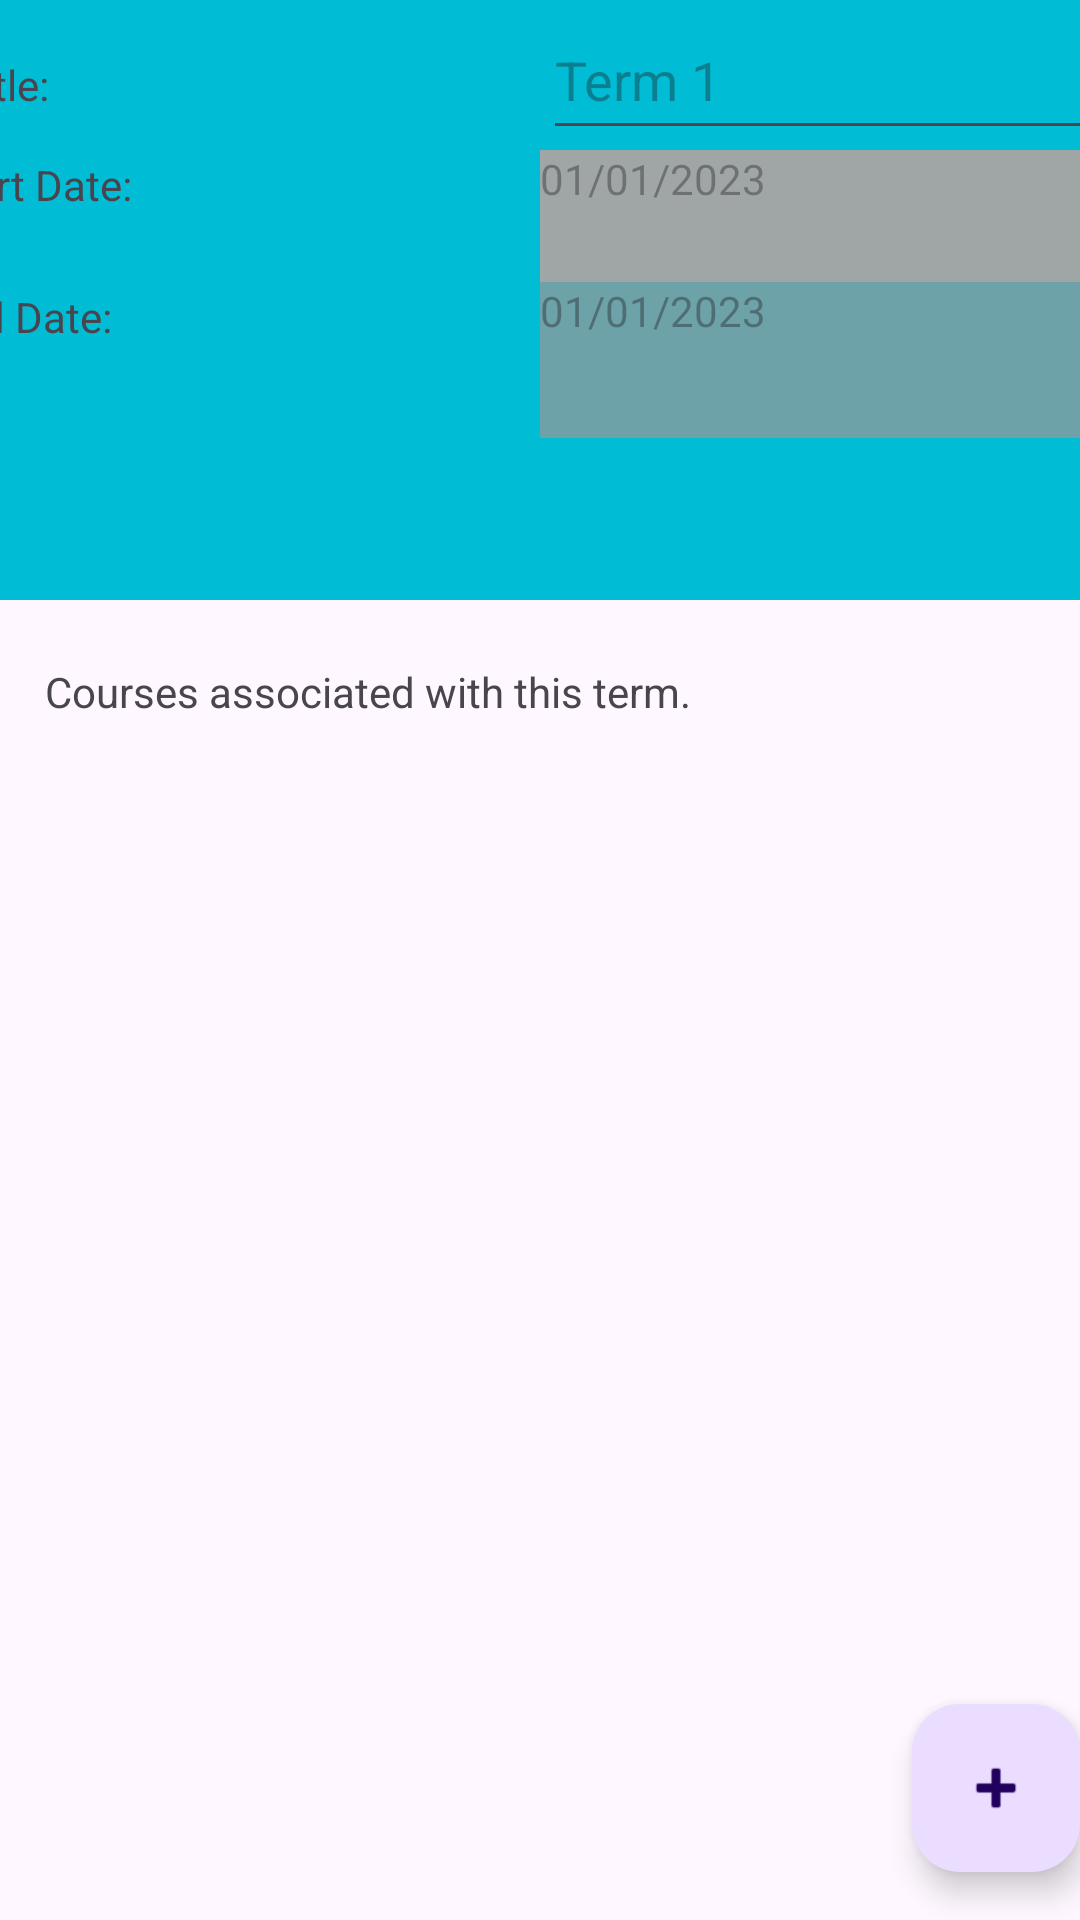

Where to tap for icons on this 1080px x 1920px app screen, as (x=x, y=y):
add: (x=996, y=1788)
